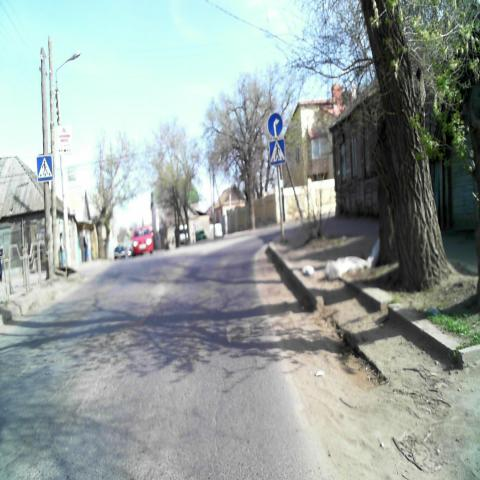4_1_2: (268, 112, 283, 138)
5_19_1: (36, 155, 52, 182), (269, 139, 285, 164)
